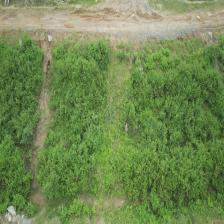vegetation: (116, 51, 224, 219), (38, 41, 110, 198), (0, 37, 43, 146), (0, 135, 33, 212)
